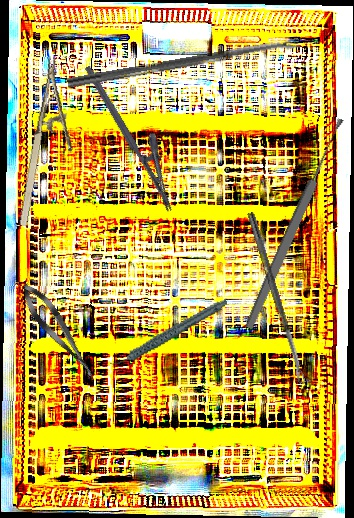Handpiece: (101, 297, 236, 368)
Micro Scissor: (15, 278, 102, 385)
Needle Holder: (83, 54, 193, 213), (13, 55, 91, 233)
Surgical Spoon: (242, 116, 348, 331), (66, 37, 301, 90), (246, 211, 306, 385)
